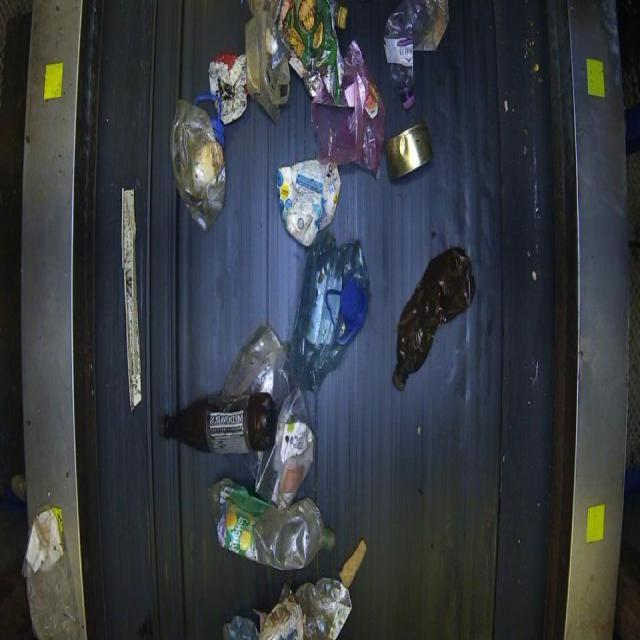bottles: (162, 391, 277, 455)
cardboard: (18, 0, 629, 639)
cups: (384, 121, 432, 179)
